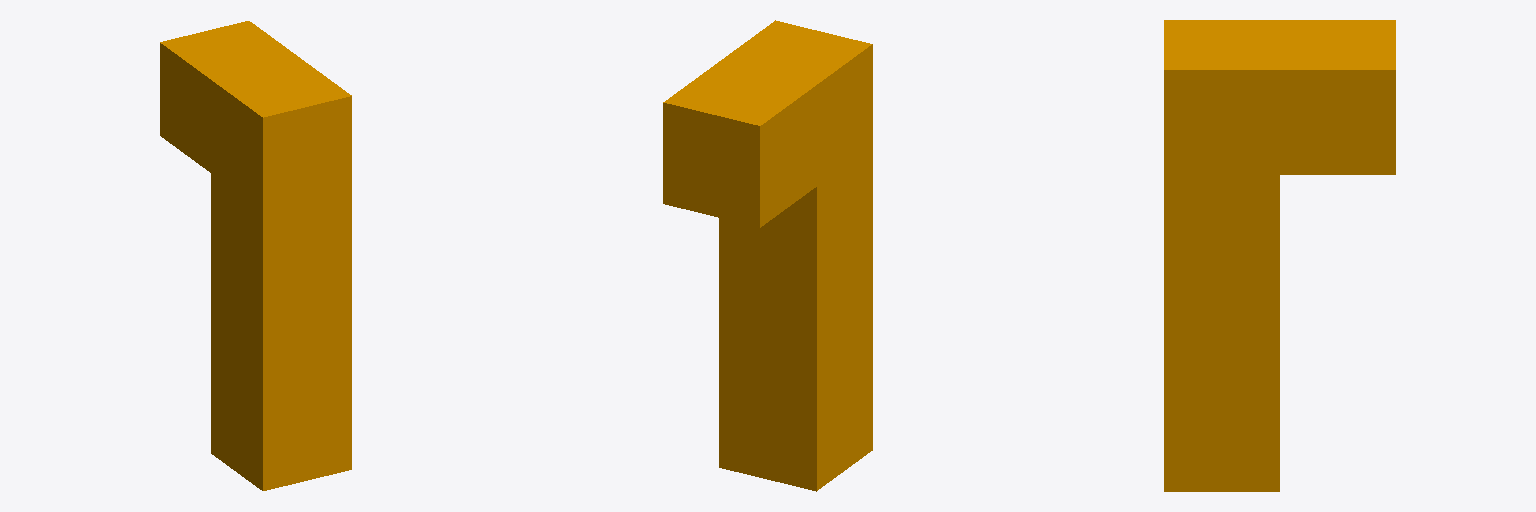
URDF robot description (robot_mesh_L):
<?xml version="1.0"?>
	<robot name="robot_mesh_L">
		<link name="base_link">
                  <visual>
                    <origin rpy="0 0 0" xyz="0 0 0"/>
                    <geometry>
                      <mesh filename="package://hpp_tutorial/meshes/robot_mesh_L.stl"/>
                    </geometry>
                  </visual>
                  <collision> 
                    <origin rpy="0 0 0" xyz="0 0 0"/>
                    <geometry>
                      <mesh filename="package://hpp_tutorial/meshes/robot_mesh_L.stl"/>
                    </geometry>
                  </collision> 
		</link>
	</robot>

--- Render facts (derived) ---
The picture shows the robot from 3 angles, left to right: view 1: azimuth 30°, elevation 25°; view 2: azimuth 150°, elevation 25°; view 3: azimuth 270°, elevation 25°; orthographic projection.
Robot: robot_mesh_L — 1 links, 0 joints (none); root link base_link; default pose: every joint at zero.
Links seen in each view (by area): view 1: base_link; view 2: base_link; view 3: base_link.
Boxes of the visible links, x1,y1,x2,y2 form: base_link: (160,21,351,490); base_link: (663,20,872,491); base_link: (1164,20,1395,491).
Size in the robot's own frame: 0.04 by 0.08 by 0.16 metres.
1 mesh visuals loaded from 1 distinct referenced files (1 binary STL).